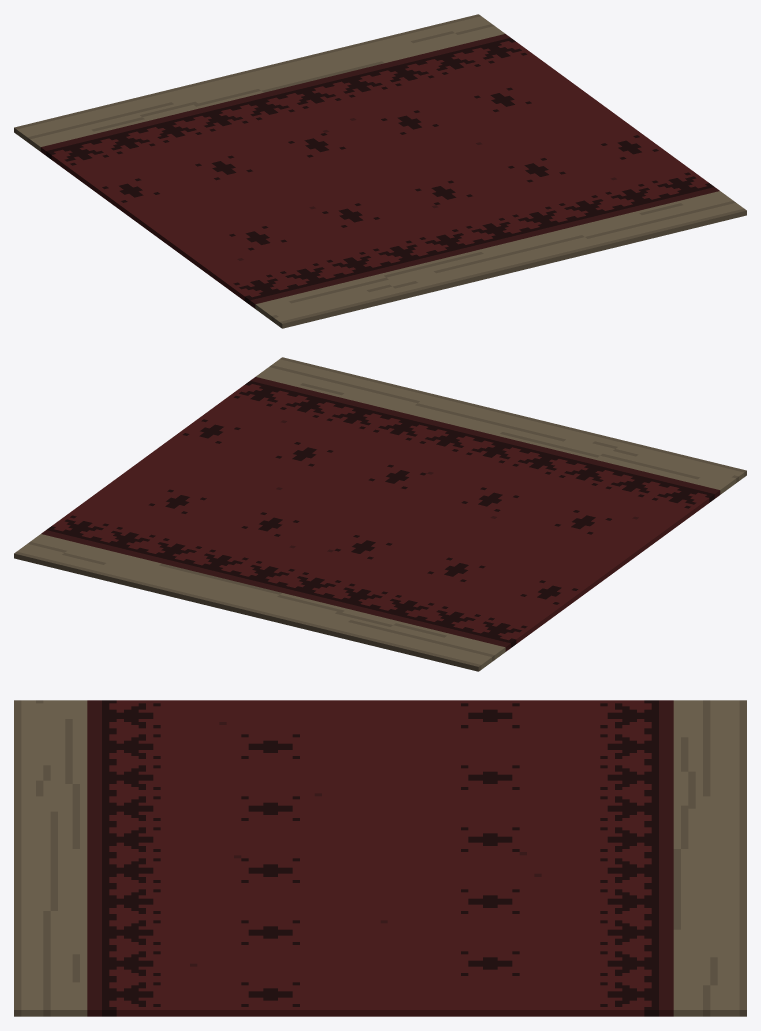
Rendered from GGJ floor 02.1.obj.
3 views of the same model, one above another, from view 1: azimuth 30°, elevation 25°; view 2: azimuth 150°, elevation 25°; view 3: azimuth 270°, elevation 25° (orthographic). The views are drawn at different scales.
Size of the model in its own units: 10 by 0.1 by 10.
1 material, 1 textured.
